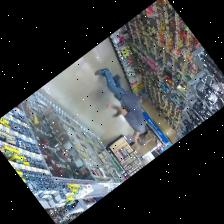person: (95, 67, 146, 146)
